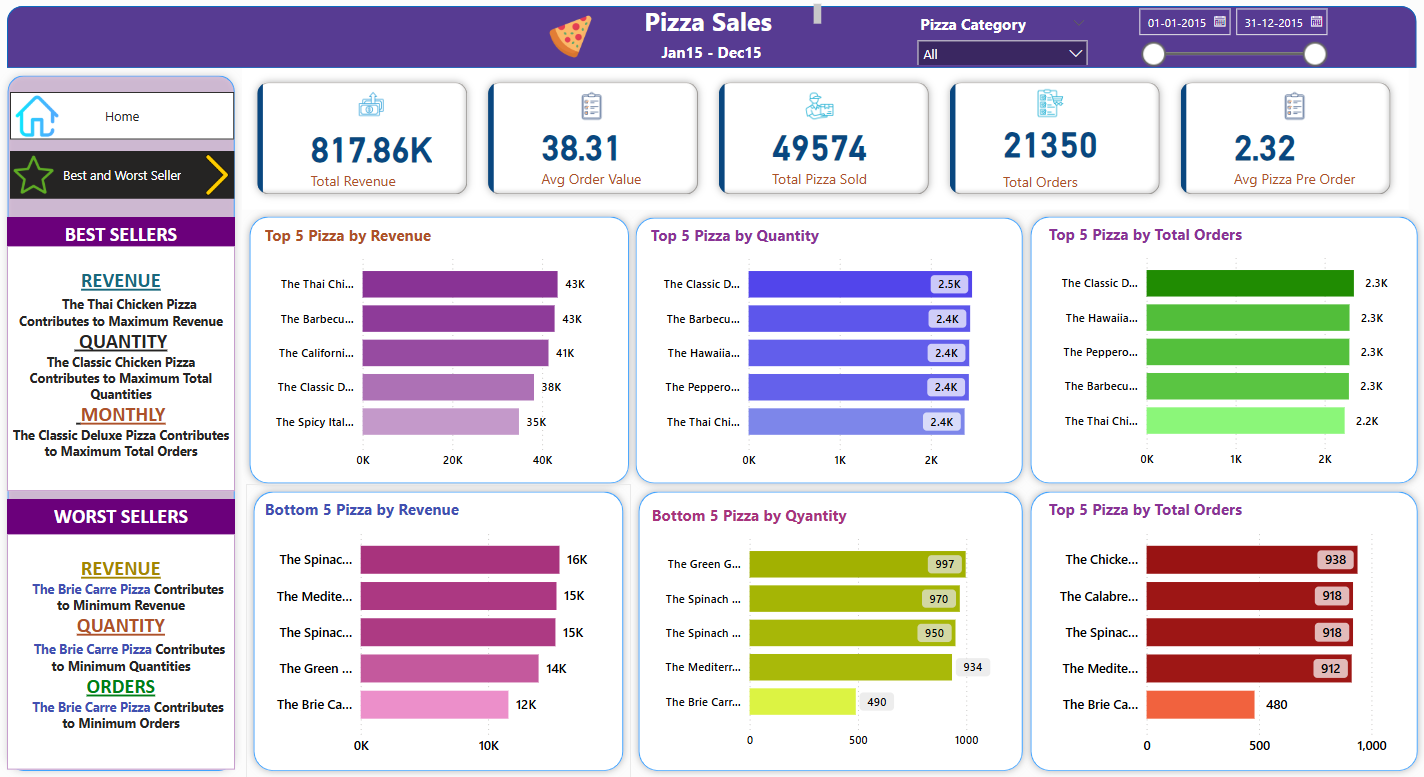

What the dashboard file says about the page in this screenshot:
{"tool":"powerbi","page":{"name":"Best and Worst Seller","canvas":[1500,820],"ordinal":1},"visuals":[{"type":"shape","box":[0,72.4,255.1,748],"z":0},{"type":"cardVisual","fields":{"Data":["pizza_sales.Total Revenue","pizza_sales.Avg Order Value","pizza_sales.Total Pizza Sold","pizza_sales.Total Orders","pizza_sales.Avg Pizza Pre Order"]},"box":[255.1,71.4,1227.6,150],"z":1000},{"type":"shape","box":[7.1,7.1,1483.7,65.3],"z":2000},{"type":"textbox","box":[629.6,0,239.8,49],"z":3000},{"type":"textbox","box":[686.7,39.8,125.5,31.6],"z":4000},{"type":"image","box":[571.4,11.2,58.2,56.1],"z":5000},{"type":"textbox","box":[7.1,229.6,239.8,37.8],"z":6000},{"type":"shape","box":[255.1,221.4,415.3,296.9],"z":7000},{"type":"shape","box":[259.2,510.2,405.1,310.2],"z":8000},{"type":"textbox","box":[7.1,260.2,239.8,258.2],"z":9000},{"type":"textbox","box":[7.1,526.5,239.8,37.8],"z":10000},{"type":"textbox","box":[7.1,563.3,239.8,248],"z":11000},{"type":"slicer","fields":{"Values":["pizza_sales.pizza_category"]},"box":[956.1,10.2,199,59.2],"z":12000},{"type":"slicer","fields":{"Values":["pizza_sales.order_date"]},"box":[1186.7,0,219.4,80.6],"z":13000},{"type":"shape","box":[661.2,222.4,423.5,295.9],"z":14000},{"type":"shape","box":[1076.5,221.4,423.5,296.9],"z":15000},{"type":"shape","box":[664.3,510.2,420.4,310.2],"z":16000},{"type":"shape","box":[1076.5,510.2,423.5,310.2],"z":17000},{"type":"barChart","title":"Bottom 5 Pizza by Qyantity","fields":{"Category":["pizza_sales.pizza_name"],"Y":["pizza_sales.Total Pizza Sold"]},"box":[680.6,532.7,378.6,265.3],"z":18000},{"type":"barChart","title":"Bottom 5 Pizza by Revenue","fields":{"Category":["pizza_sales.pizza_name"],"Y":["pizza_sales.Total Revenue"]},"box":[273.5,526.5,373.5,277.6],"z":19000},{"type":"barChart","title":"Top 5 Pizza by Quantity","fields":{"Category":["pizza_sales.pizza_name"],"Y":["pizza_sales.Total Pizza Sold"]},"box":[679.6,237.8,379.6,265.3],"z":20000},{"type":"barChart","title":"Top 5 Pizza by Revenue","fields":{"Category":["pizza_sales.pizza_name"],"Y":["pizza_sales.Total Revenue"]},"box":[273.5,237.8,379.6,265.3],"z":21000},{"type":"barChart","title":"Top 5 Pizza by Total Orders","fields":{"Category":["pizza_sales.pizza_name"],"Y":["pizza_sales.Total Orders"]},"box":[1099,236.7,379.6,265.3],"z":22000},{"type":"barChart","title":"Top 5 Pizza by Total Orders","fields":{"Category":["pizza_sales.pizza_name"],"Y":["pizza_sales.Total Orders"]},"box":[1099,526.5,379.6,277.6],"z":23000},{"type":"pageNavigator","box":[10.2,98,236.7,50],"z":24000},{"type":"pageNavigator","box":[10.2,160.2,236.7,50],"z":25000},{"type":"image","box":[202,154.1,53.1,62.2],"z":26000},{"type":"image","box":[10.2,95.9,56.1,55.1],"z":27000},{"type":"image","box":[7.1,159.2,56.1,52],"z":28000}]}

Visuals, with their boxes in screenshot pixels (x1, y1, x2, y2), scaled from the page's 1500x820 canvas onto the 1424x777 screenshot:
shape: detection(0, 69, 242, 776)
cardVisual - pizza_sales.Total Revenue x pizza_sales.Avg Order Value: detection(242, 68, 1408, 210)
shape: detection(7, 7, 1415, 69)
textbox: detection(598, 0, 825, 46)
textbox: detection(652, 38, 771, 68)
image: detection(542, 11, 598, 64)
textbox: detection(7, 218, 234, 253)
shape: detection(242, 210, 636, 491)
shape: detection(246, 483, 631, 776)
textbox: detection(7, 247, 234, 491)
textbox: detection(7, 499, 234, 535)
textbox: detection(7, 534, 234, 769)
slicer - pizza_sales.pizza_category: detection(908, 10, 1097, 66)
slicer - pizza_sales.order_date: detection(1127, 0, 1335, 76)
shape: detection(628, 211, 1030, 491)
shape: detection(1022, 210, 1423, 491)
shape: detection(631, 483, 1030, 776)
shape: detection(1022, 483, 1423, 776)
"Bottom 5 Pizza by Qyantity" barChart: detection(646, 505, 1006, 756)
"Bottom 5 Pizza by Revenue" barChart: detection(260, 499, 614, 762)
"Top 5 Pizza by Quantity" barChart: detection(645, 225, 1006, 477)
"Top 5 Pizza by Revenue" barChart: detection(260, 225, 620, 477)
"Top 5 Pizza by Total Orders" barChart: detection(1043, 224, 1404, 476)
"Top 5 Pizza by Total Orders" barChart: detection(1043, 499, 1404, 762)
pageNavigator: detection(10, 93, 234, 140)
pageNavigator: detection(10, 152, 234, 199)
image: detection(192, 146, 242, 205)
image: detection(10, 91, 63, 143)
image: detection(7, 151, 60, 200)
